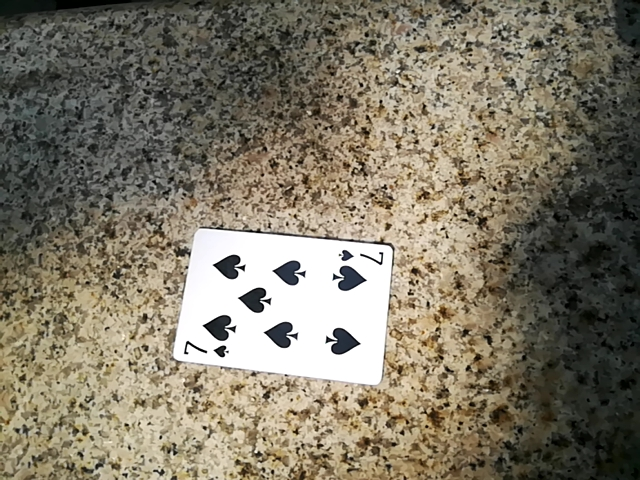ht 7: (183, 243, 395, 392)
